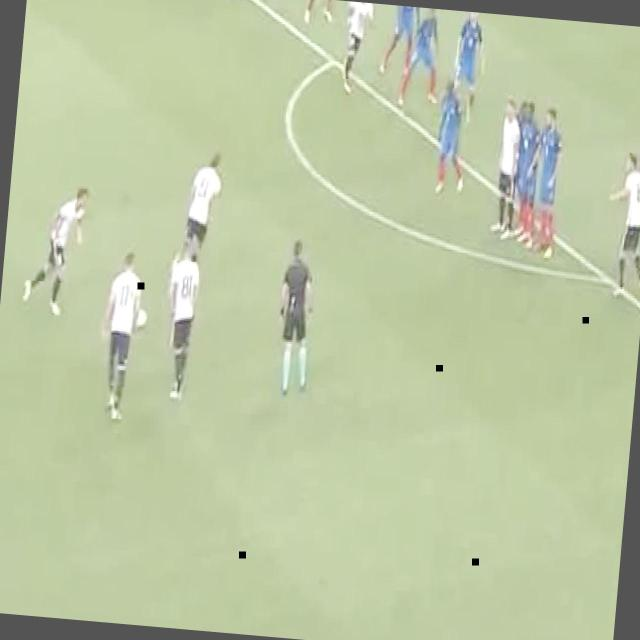ball: (133, 306, 149, 332)
player-white: (21, 181, 91, 318), (95, 252, 143, 422), (272, 240, 319, 400), (172, 150, 224, 292), (160, 238, 202, 400), (521, 107, 565, 260), (602, 151, 640, 297), (489, 97, 524, 239), (398, 7, 446, 108), (512, 100, 544, 246), (450, 11, 491, 123), (434, 81, 472, 198), (342, 1, 377, 95), (380, 5, 422, 77), (304, 0, 342, 25), (634, 148, 640, 283)
